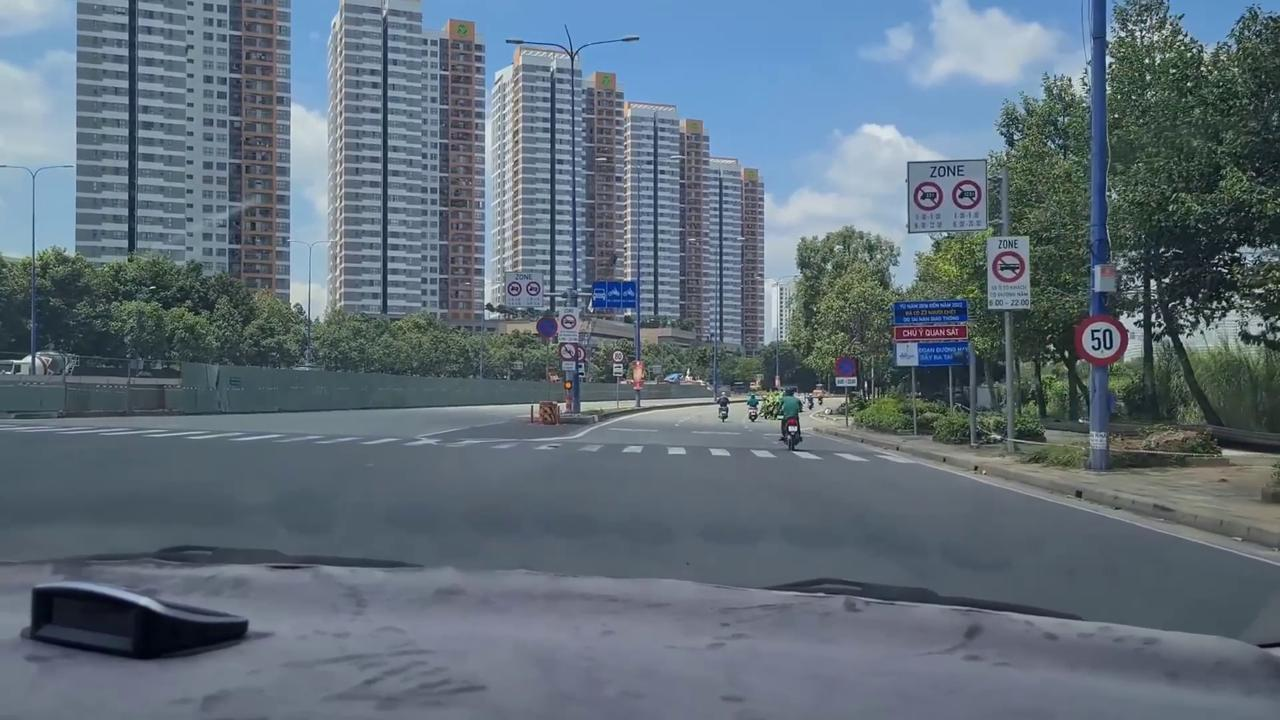Biển phụ: (832, 377, 859, 387), (612, 362, 624, 377)
Cấm cac phương tiện hoạt động trong khung giờ cố định: (903, 158, 990, 233), (984, 234, 1032, 310), (502, 270, 544, 308), (556, 306, 580, 343)
Cấm dừng - Cấm đỗ: (832, 355, 858, 378), (536, 314, 558, 337)
Cấm xe máy: (558, 343, 577, 361)
Giới hạn tốc độ 50Km/h: (1072, 310, 1132, 366)
Giới hạn tốc độ 80Km/h: (612, 348, 625, 364)
Khác: (888, 297, 972, 367)
Làn đường cho từng xe: (590, 279, 638, 310)
